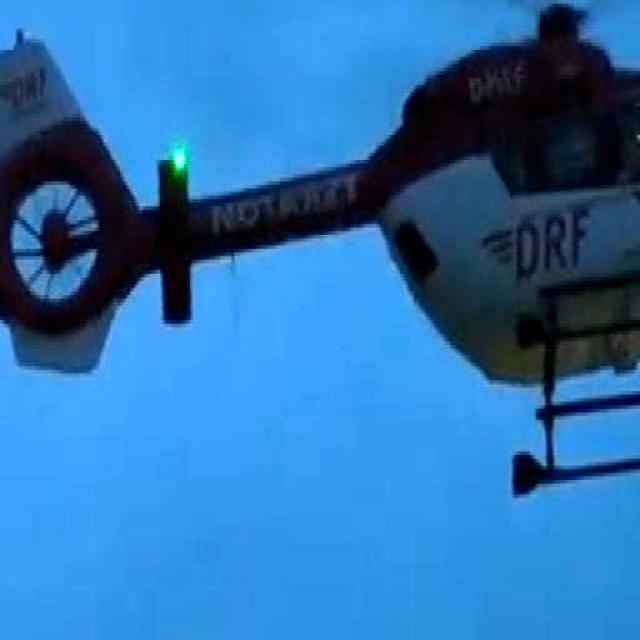drone: (0, 0, 640, 495)
